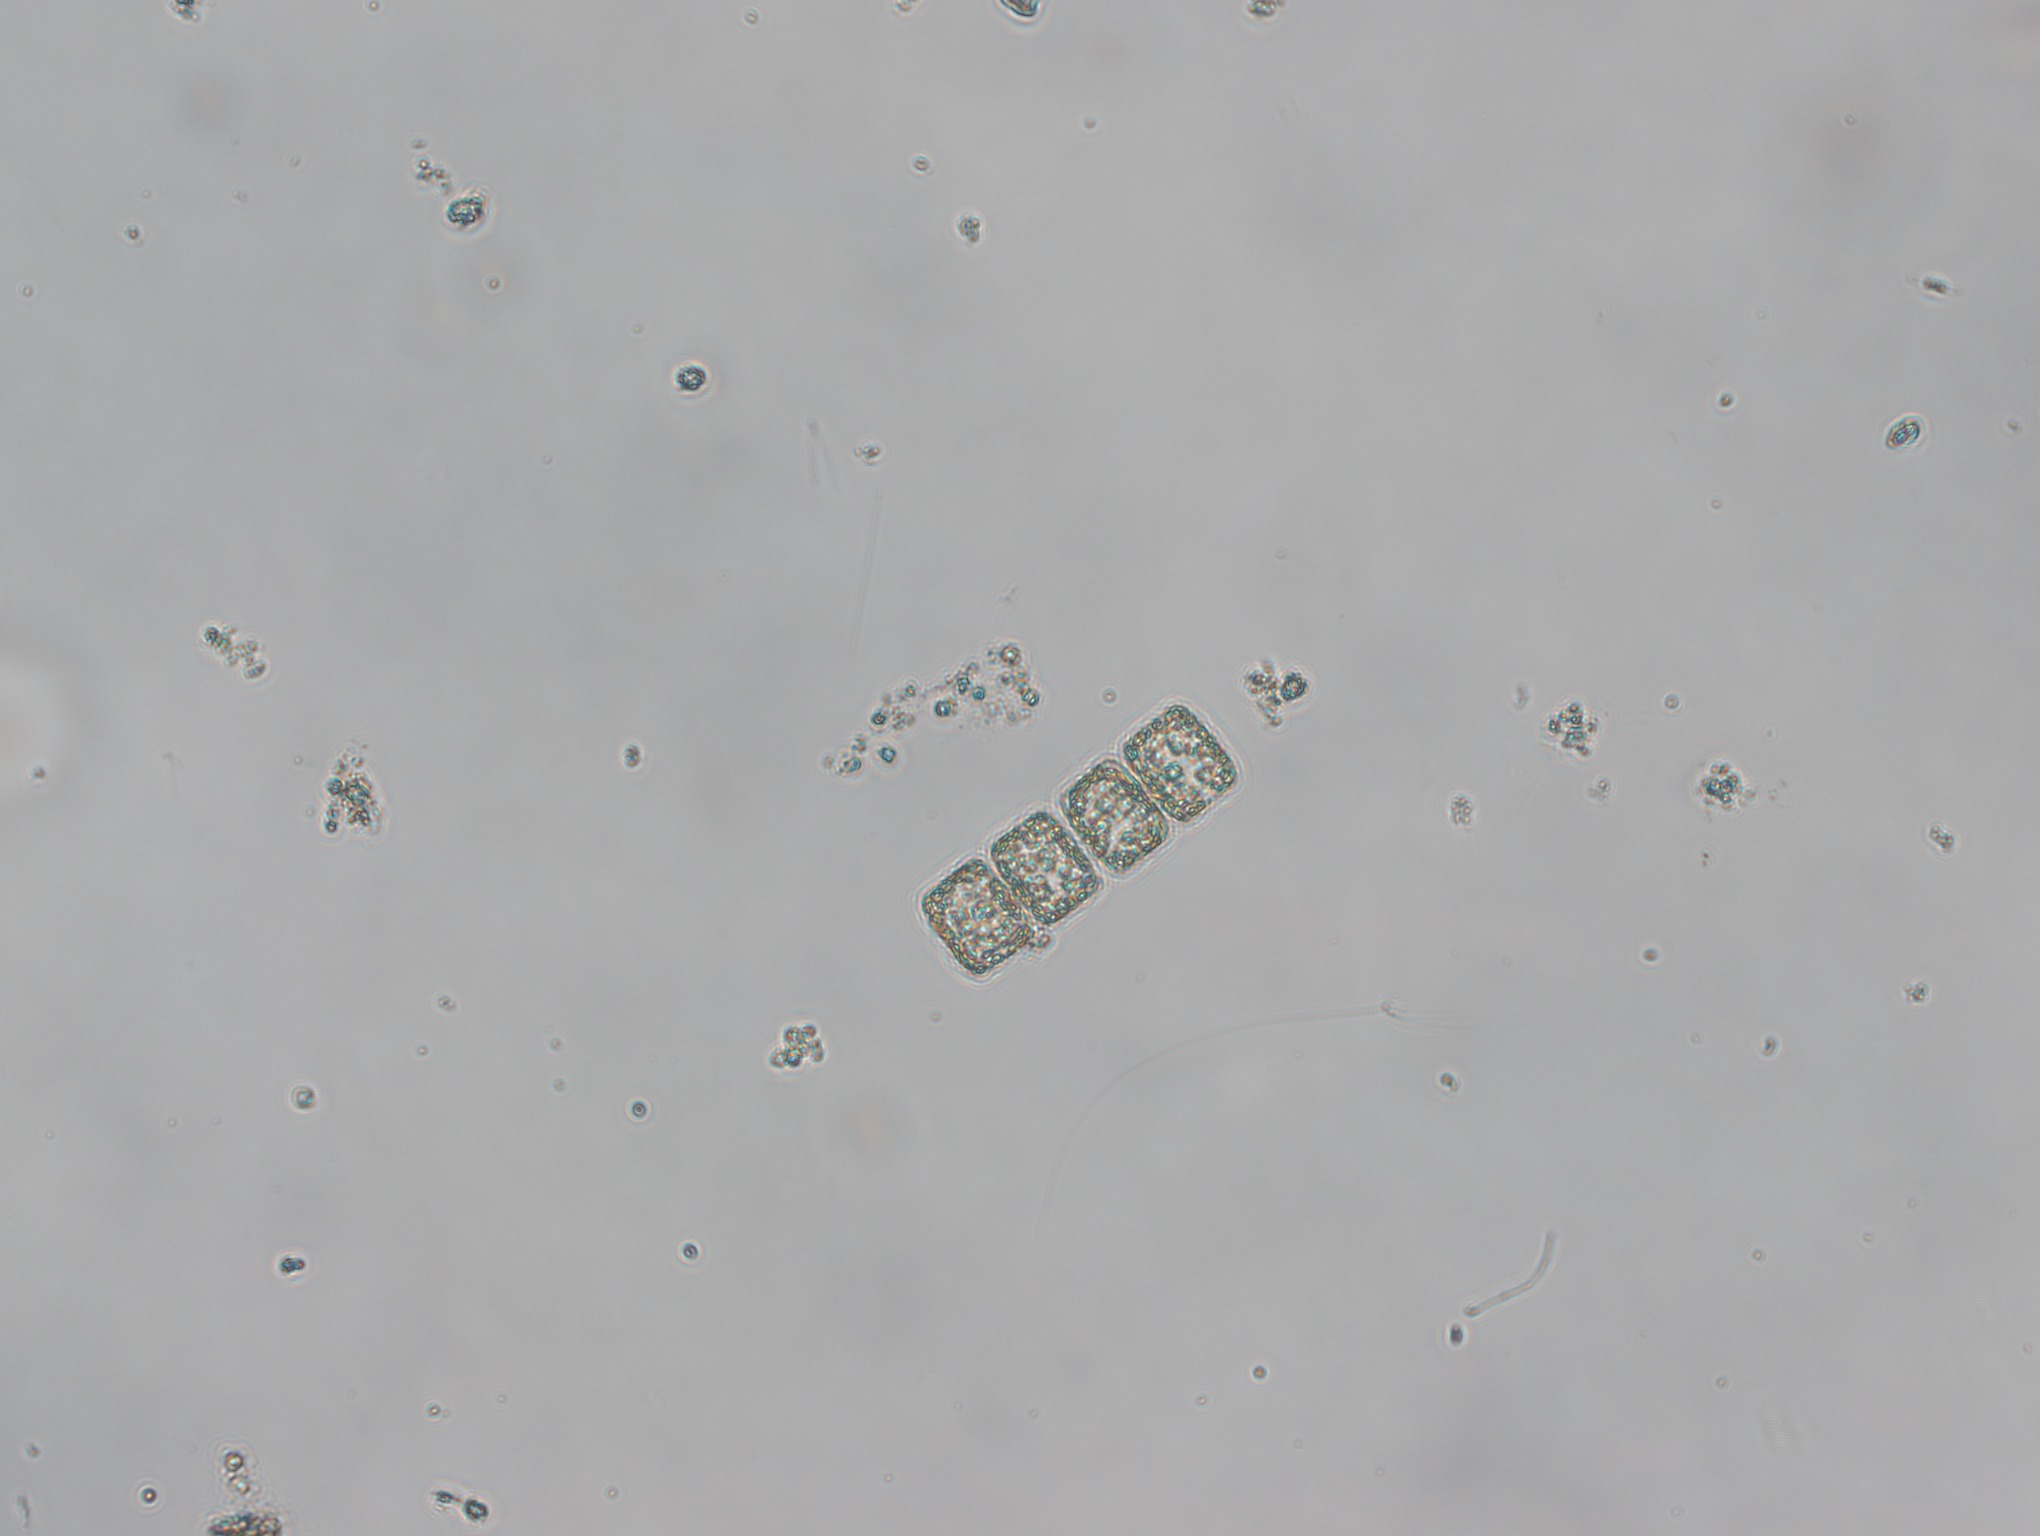detonula pumila: (914, 697, 1247, 981)
